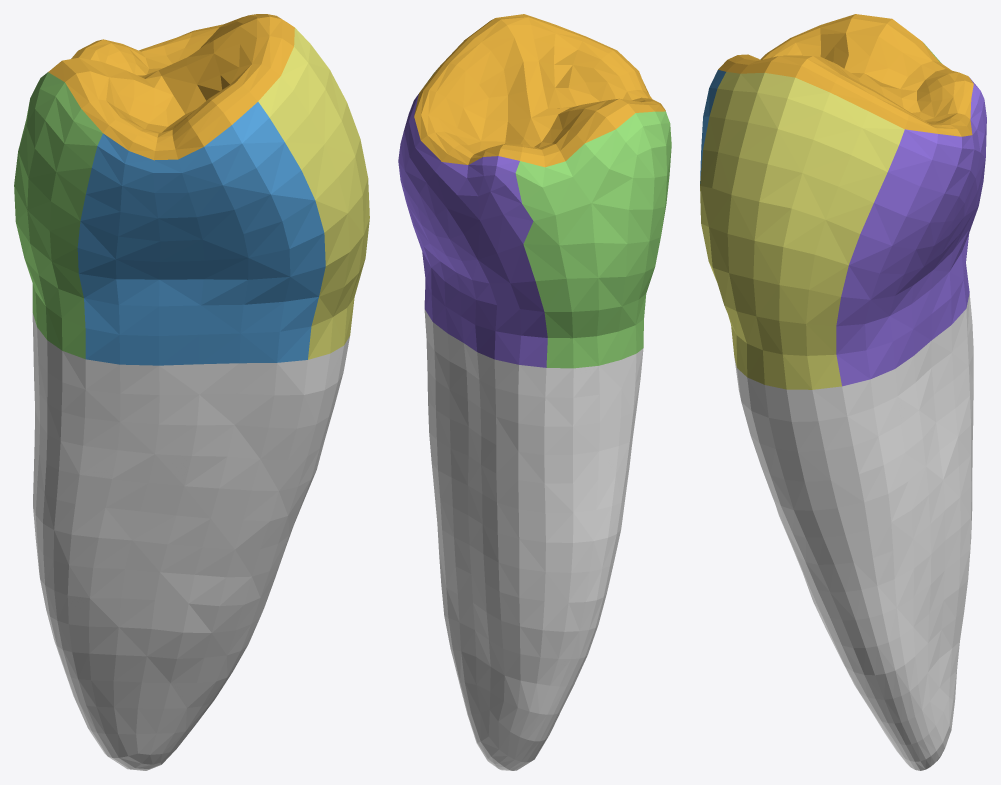
Rendered from tooth_35_annotated.glb.
3 renders of one model, left to right at view 1: azimuth 30°, elevation 25°; view 2: azimuth 150°, elevation 25°; view 3: azimuth 270°, elevation 25°, orthographic. The views are drawn at different scales.
Visible parts, largest first — view 1: FDI_35; view 2: FDI_35; view 3: FDI_35.
Boxes of the visible parts, left/top/right/bottom form: FDI_35: left=14, top=14, right=369, bottom=770; FDI_35: left=398, top=14, right=671, bottom=770; FDI_35: left=700, top=14, right=986, bottom=770.
Bounding box in the file's own units: 0.00775 × 0.0199 × 0.007.
